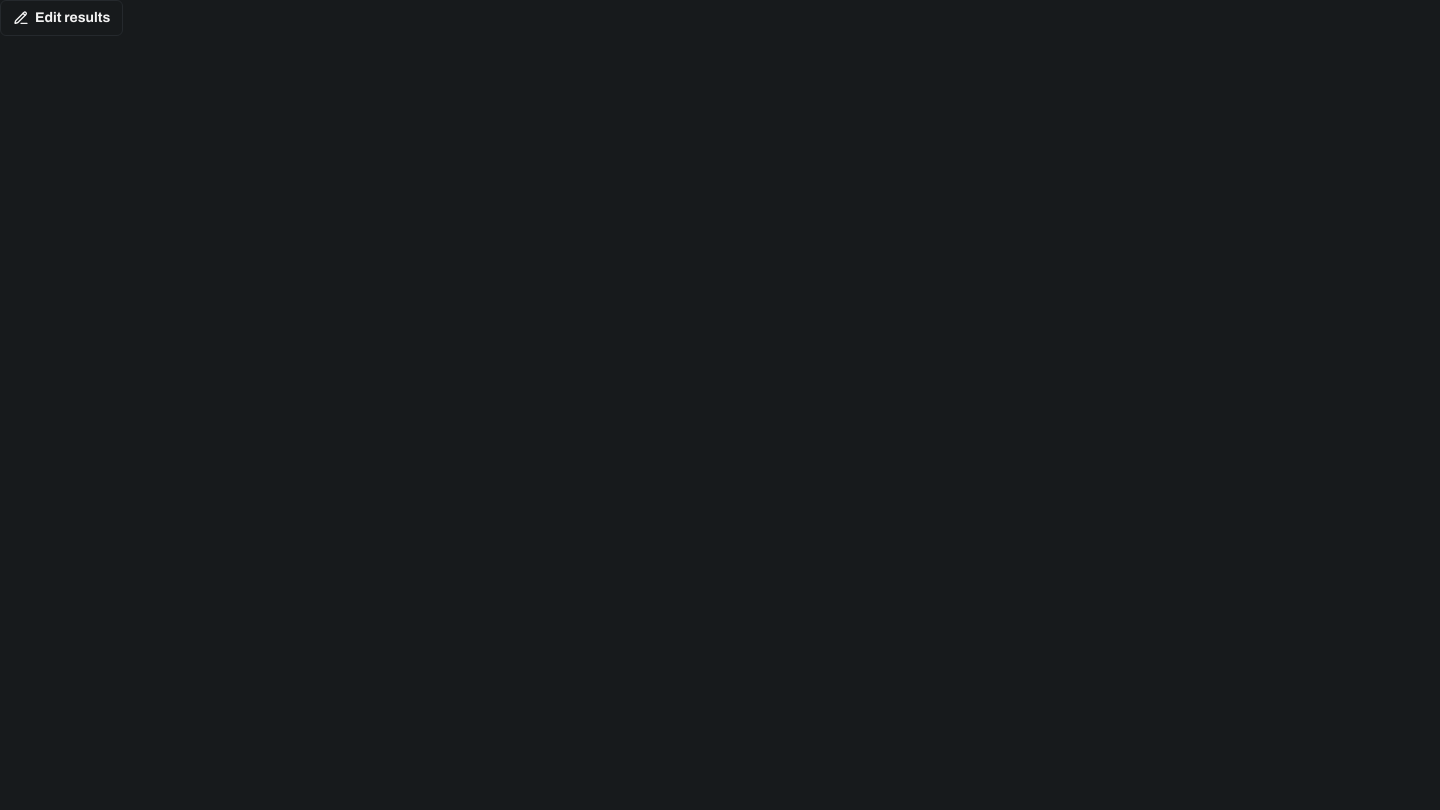
Test: the results editor › adds a missed rebuy before the final bust, and can take it away again
Step 1. Click the button "Edit results" → (62, 18), box top-left (0, 0), bottom-right (123, 36)
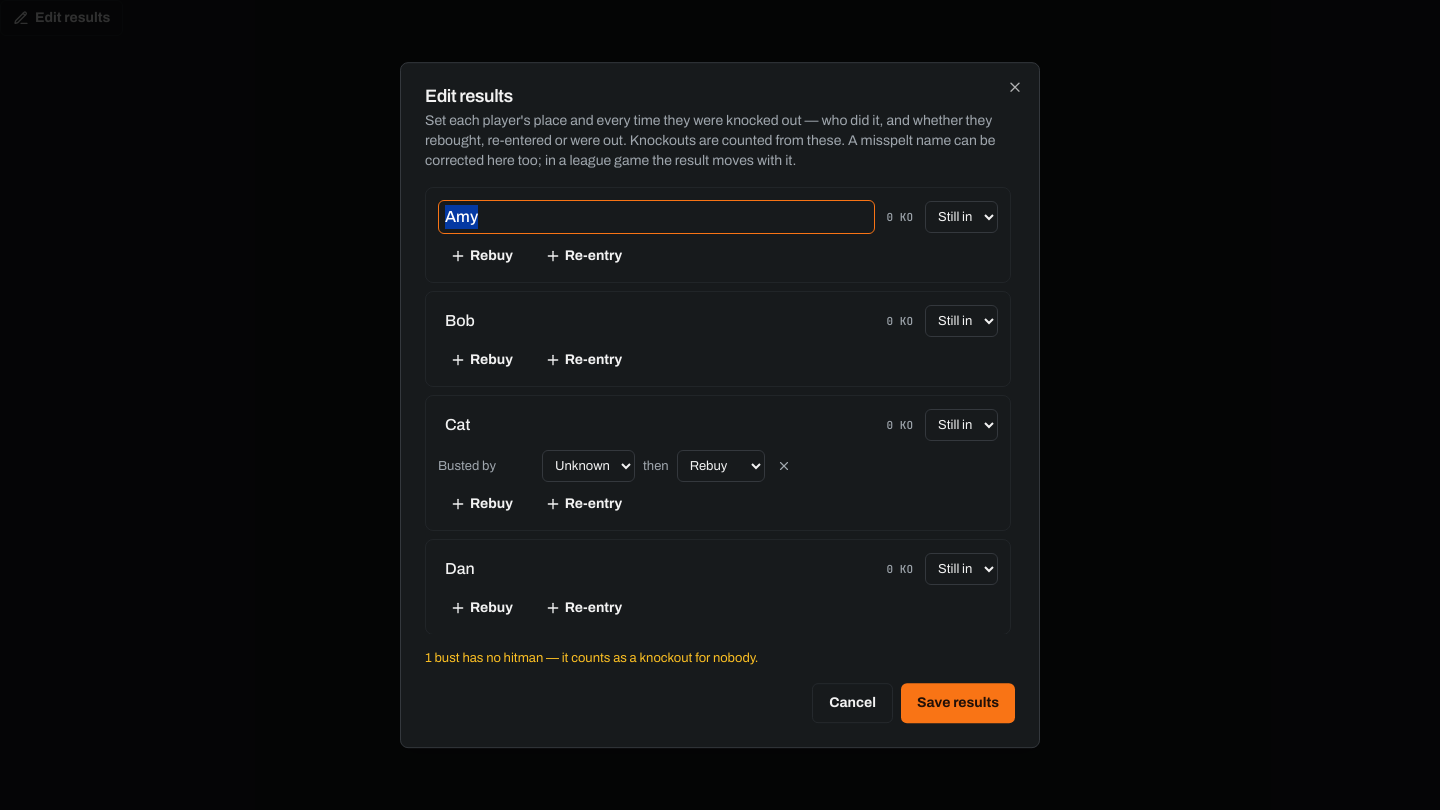
Step 2. Click the button "Rebuy" below "Busted by" → (481, 504), box top-left (438, 490), bottom-right (525, 518)
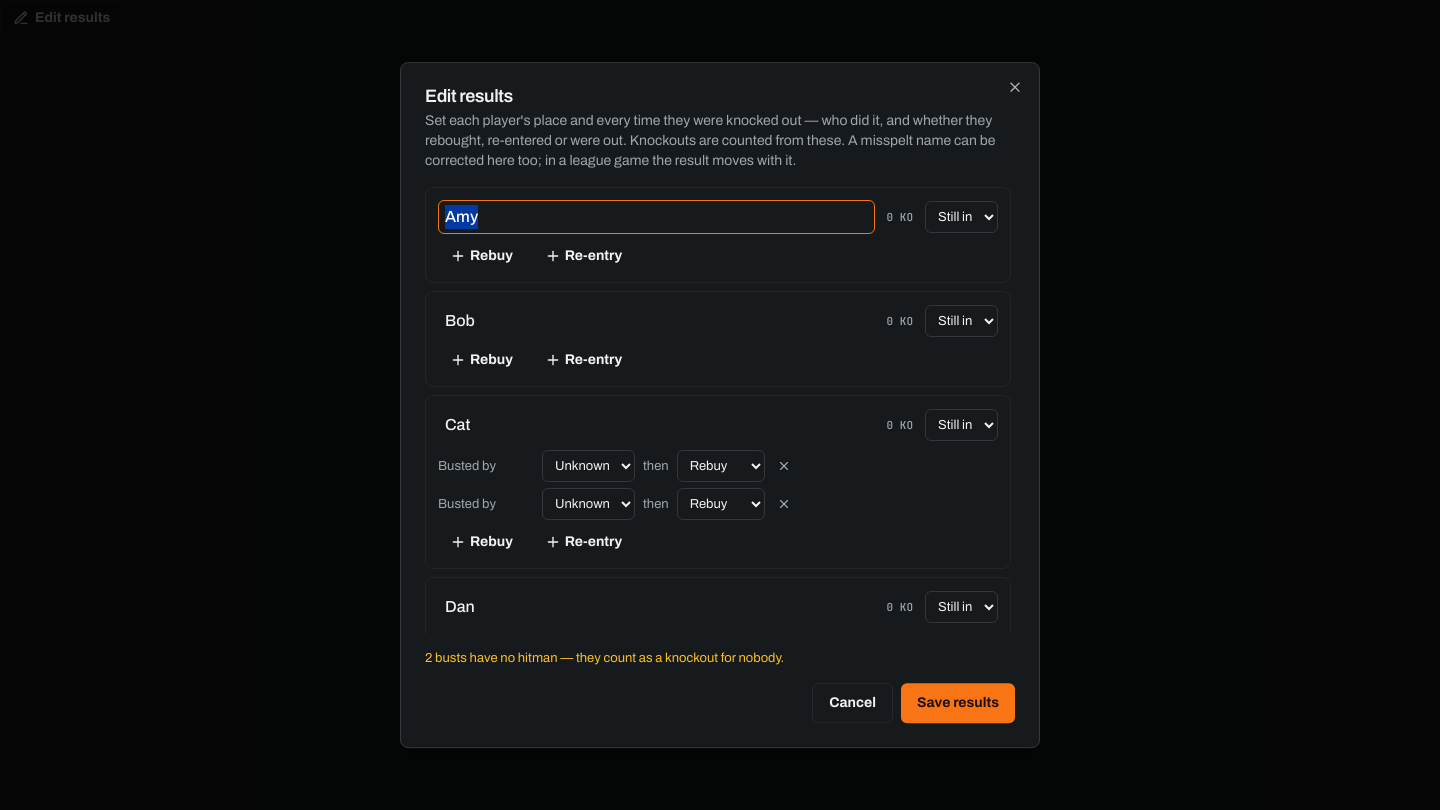
expect the number of dropdowns named "Cat bust 1 hitman" is 2: met, box top-left (542, 450), bottom-right (635, 482); top-left (542, 488), bottom-right (635, 520)
Step 3. Click the 1st button named "Remove Cat's rebuy" → (784, 466), box top-left (773, 455), bottom-right (795, 477)
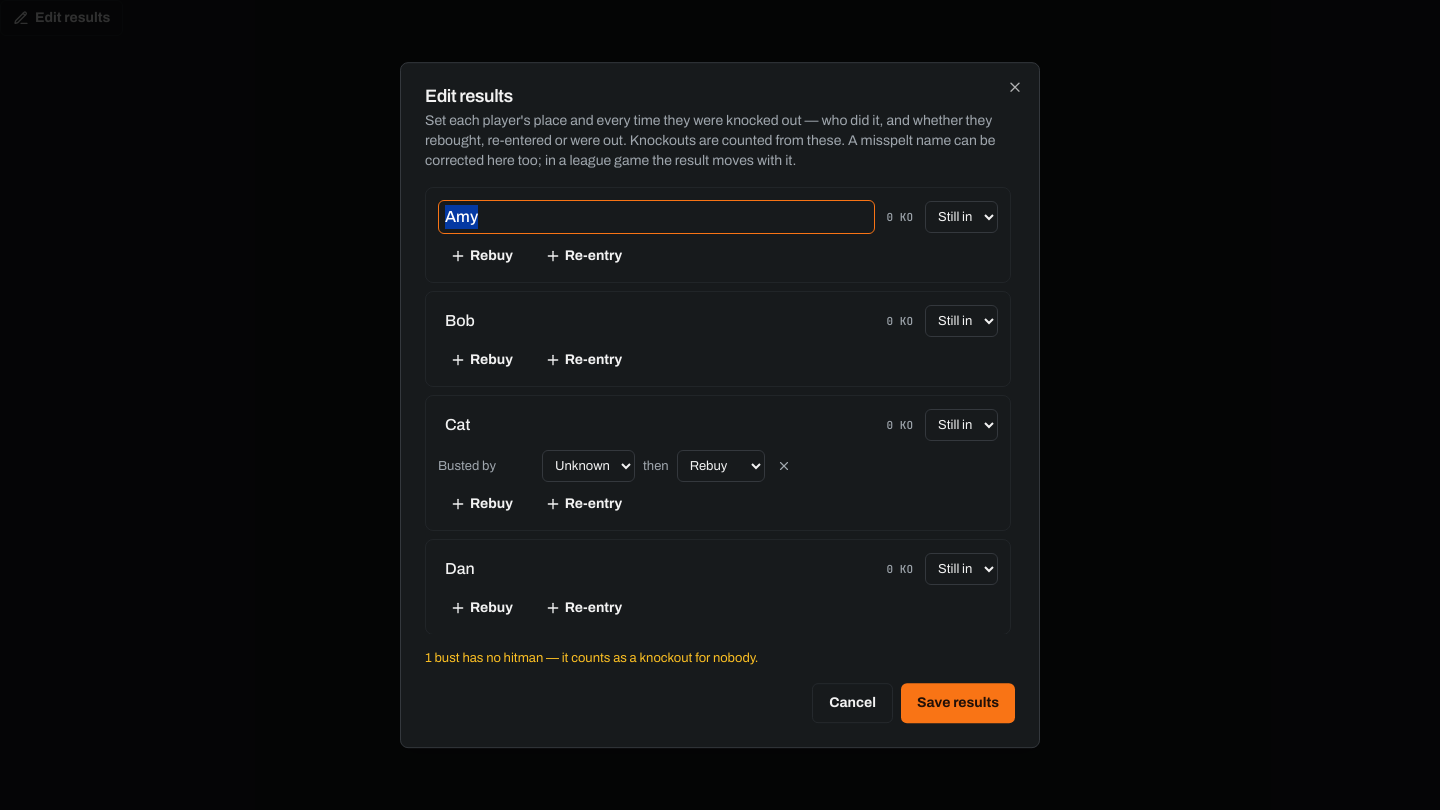
expect the number of dropdowns named "Cat bust 1 hitman" is 1: met, box top-left (542, 450), bottom-right (635, 482)
